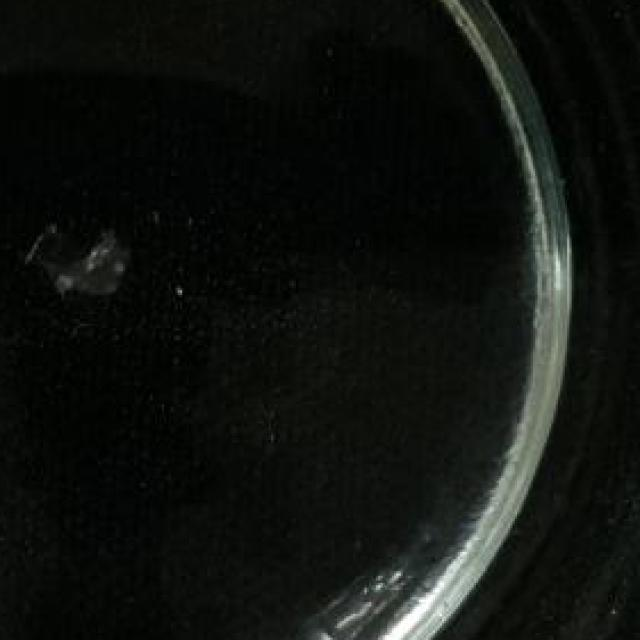Microplastic: (2, 210, 144, 302)
